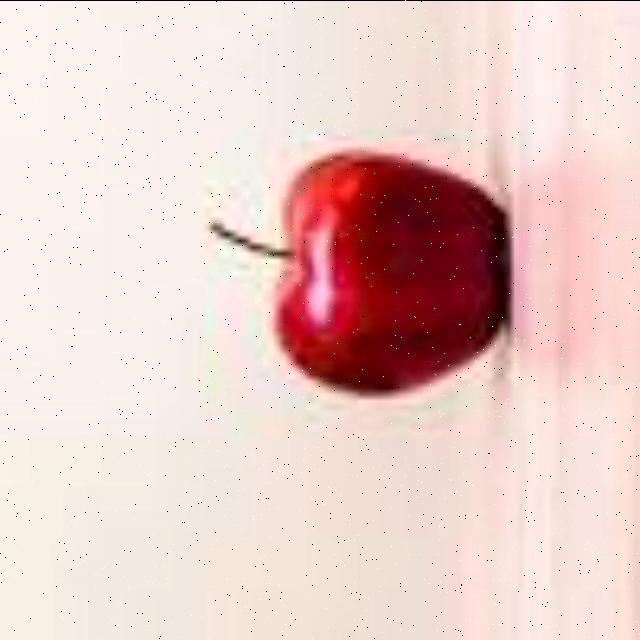HEALTHY: (232, 112, 524, 416)
